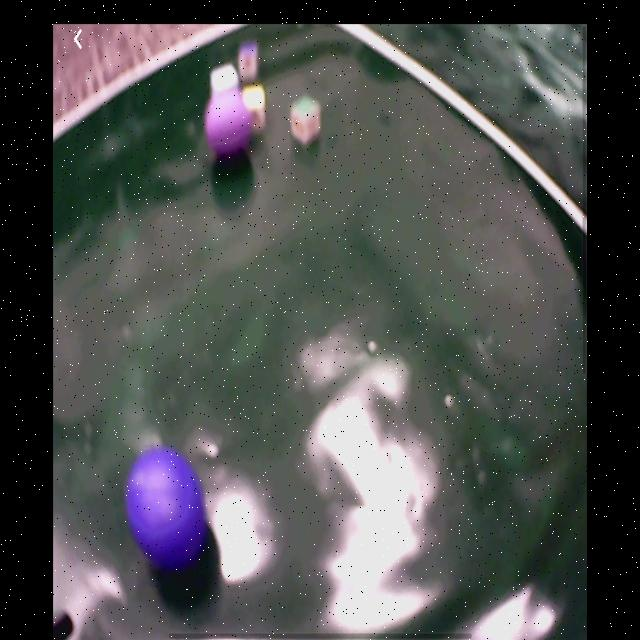ball: (124, 445, 206, 570), (204, 88, 251, 156)
